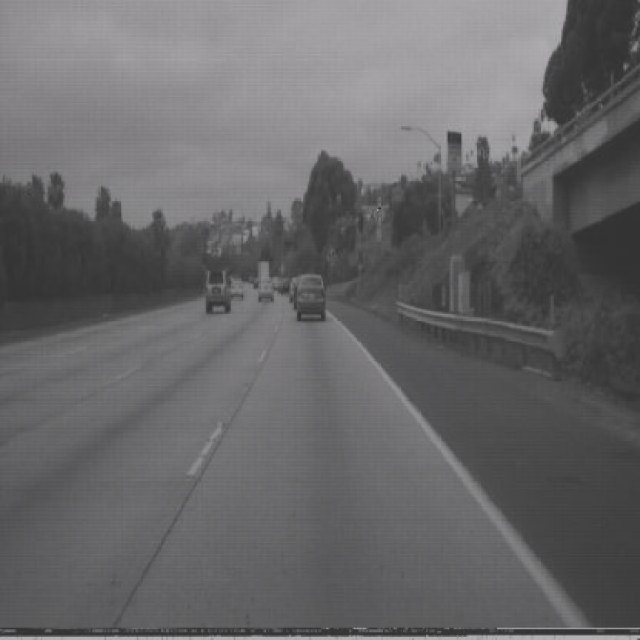addedLane: (324, 246, 336, 269)
laneEnds: (371, 202, 386, 226)
